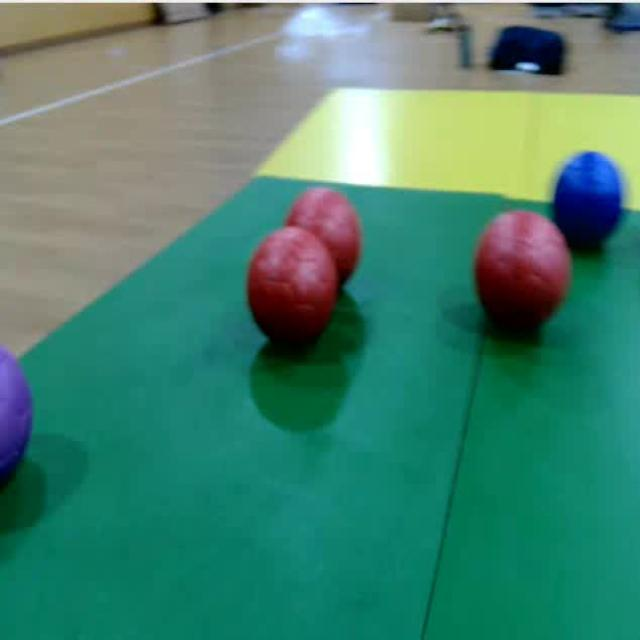blue_ball: (556, 148, 626, 251)
purple_ball: (0, 339, 42, 489)
red_ball: (470, 209, 557, 348), (246, 222, 334, 356), (292, 188, 362, 292)
